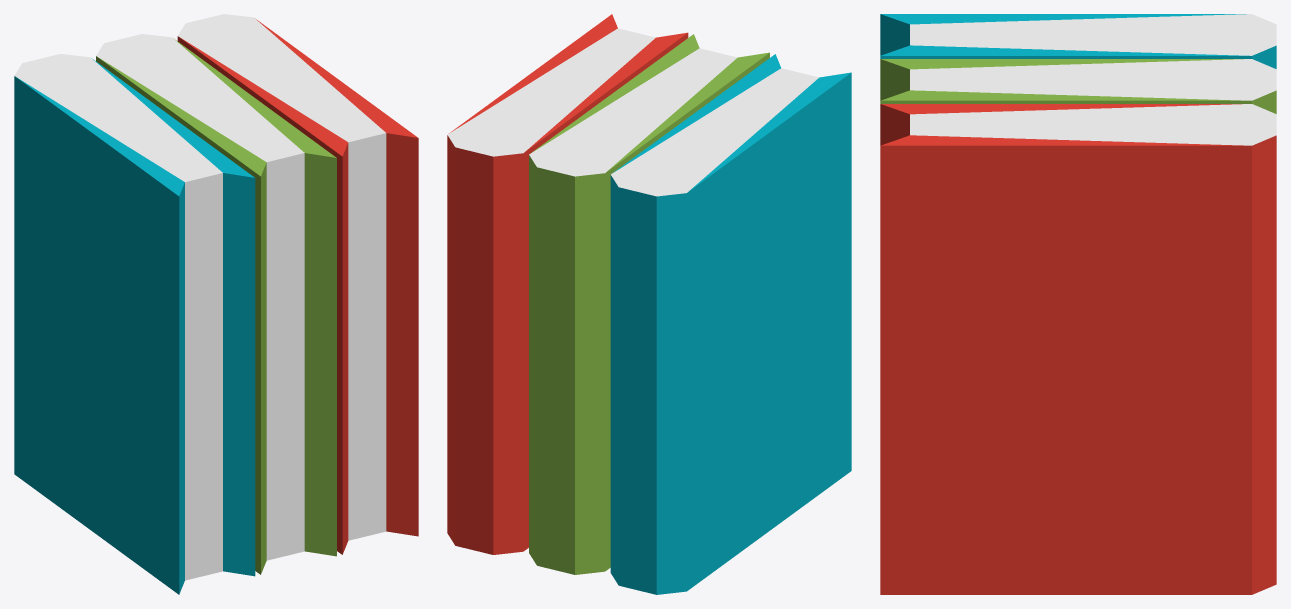
The model's file is books.glb.
3 views of the same model, side by side, from view 1: azimuth 30°, elevation 25°; view 2: azimuth 150°, elevation 25°; view 3: azimuth 270°, elevation 25° (orthographic). The views are drawn at different scales.
Parts seen in each view (by area): view 1: group660775291, group921219821, group1688433415; view 2: group660775291, group921219821, group1688433415; view 3: group921219821, group660775291, group1688433415.
Part boxes in pixels (<box>): group660775291: <box>14,54,255,594</box>; group921219821: <box>177,14,418,554</box>; group1688433415: <box>96,34,336,574</box>; group660775291: <box>610,54,851,594</box>; group921219821: <box>447,14,688,554</box>; group1688433415: <box>529,34,769,574</box>; group921219821: <box>880,104,1276,594</box>; group660775291: <box>880,14,1276,68</box>; group1688433415: <box>880,59,1276,113</box>.
Size of the model in its own units: 0.1466 by 0.2331 by 0.1865.
